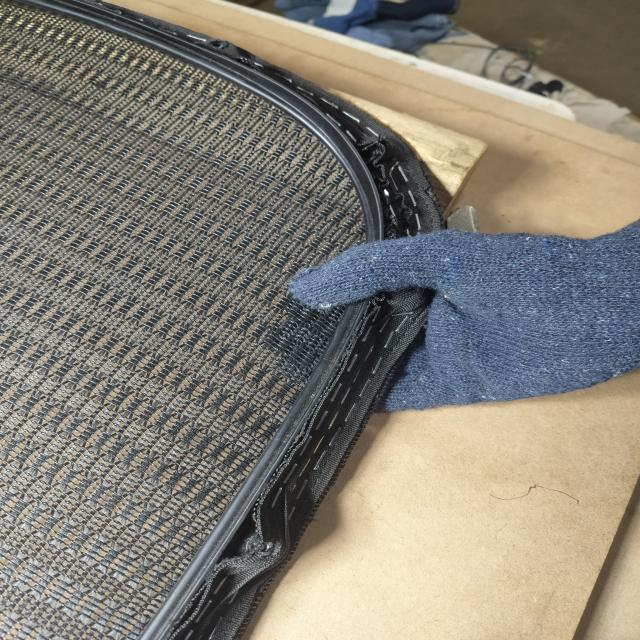Gloves-Detection: (290, 242, 640, 402)
